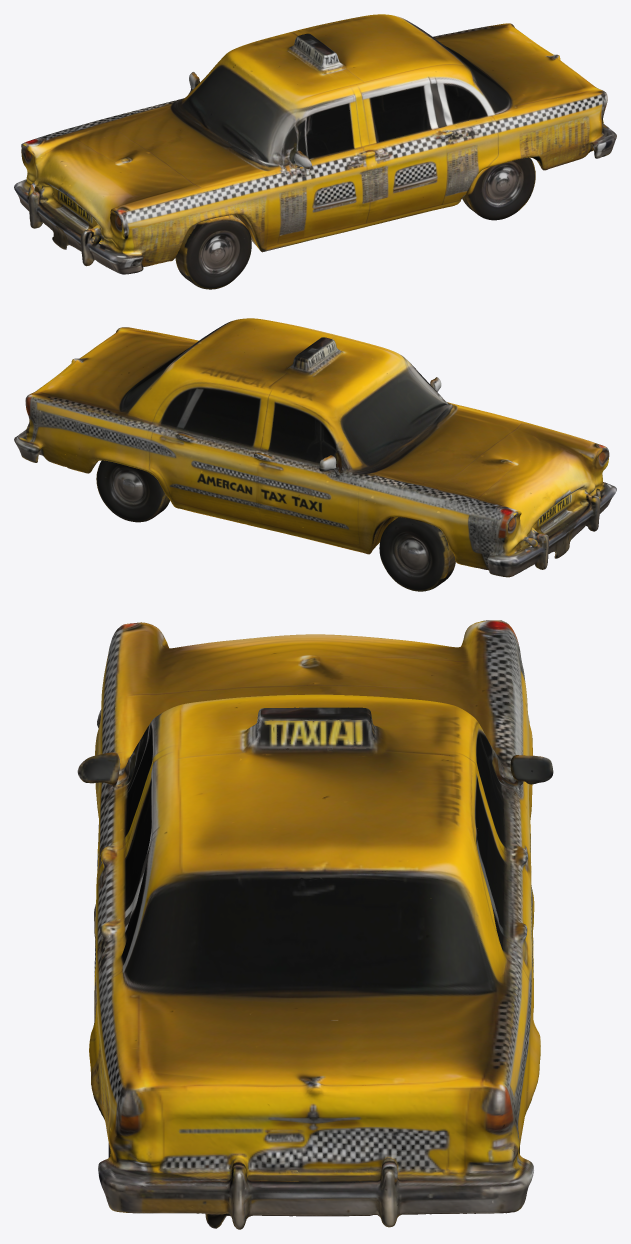
Rendered from car.glb.
3 views of the same model, one above another, from view 1: azimuth 30°, elevation 25°; view 2: azimuth 150°, elevation 25°; view 3: azimuth 270°, elevation 25° (orthographic). The views are drawn at different scales.
Size of the model in its own units: 2 by 0.636 by 0.7999.
1 material, 1 textured.
